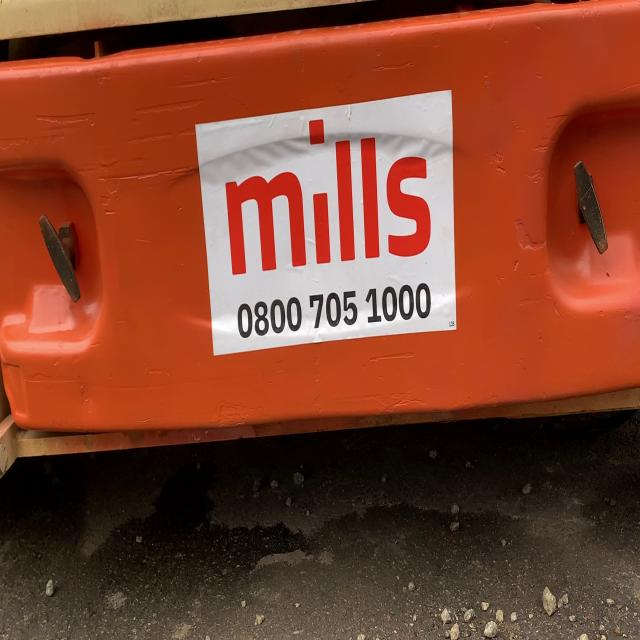Adesivos: (194, 80, 462, 364)
